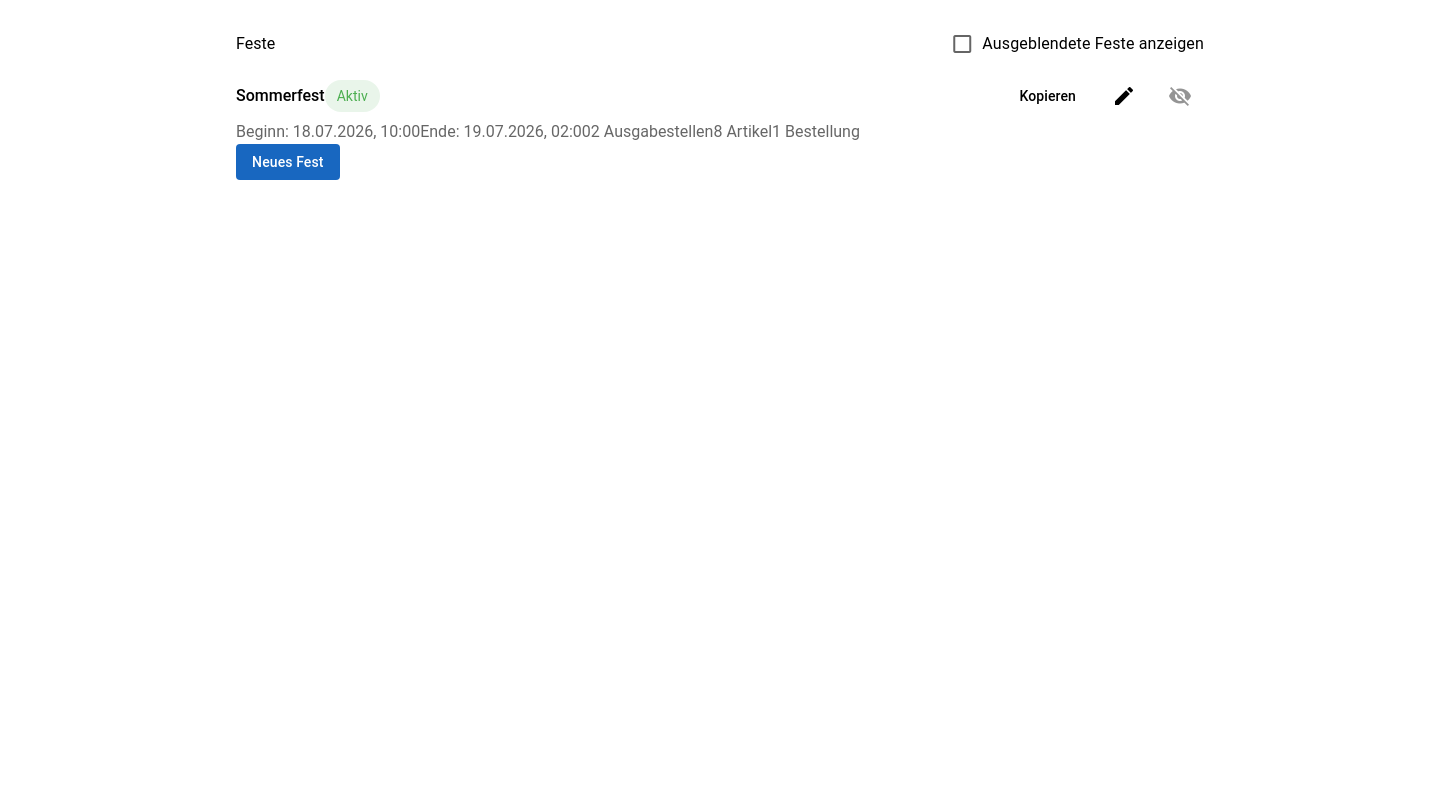
Test: the list of festivals › copies a festival under a name and a period typed fresh
This screenshot has width=1440, height=810.
Click the button with test id "copy": click(1048, 96) [1003,78,1092,114]
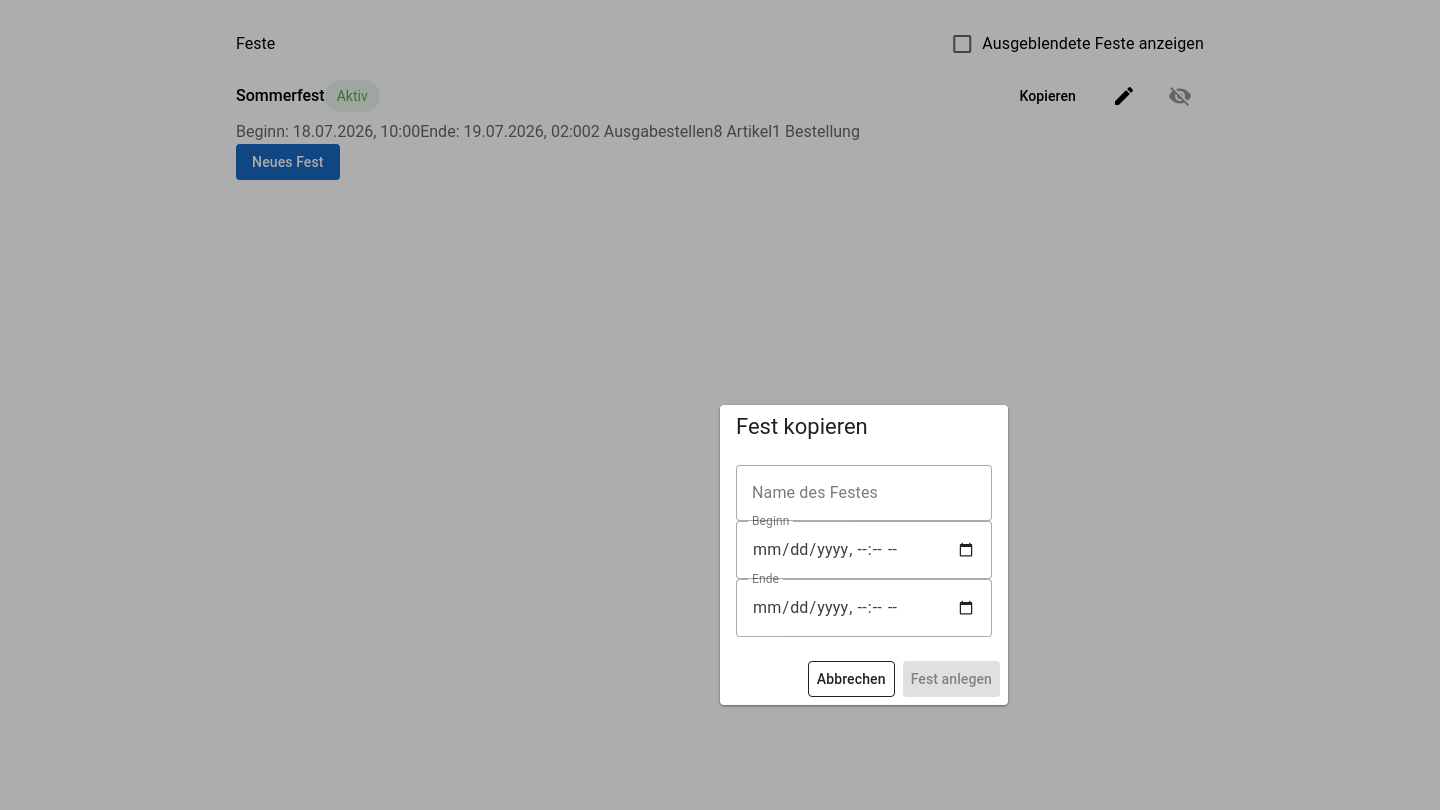
expect the element with test id "form-dialog" is shown: met, box [720,405,1008,705]
expect the field labelled "Name des Festes" is empty: met, box [736,465,992,521]
